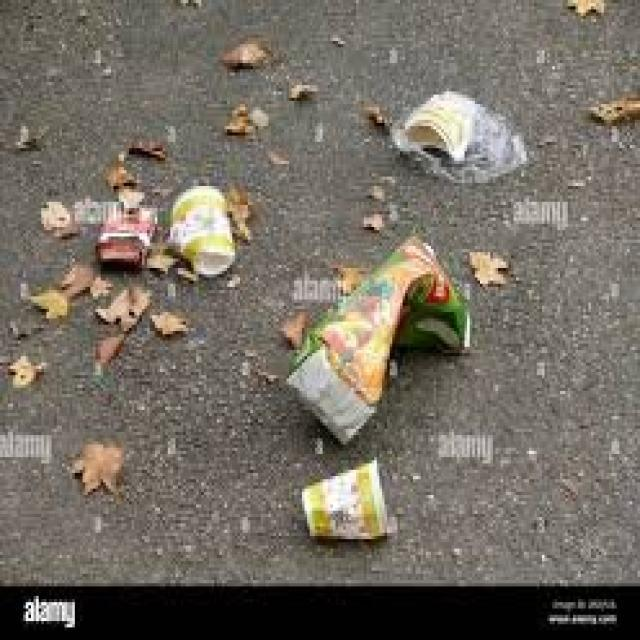leaf: (392, 90, 547, 178), (290, 449, 390, 544), (173, 176, 253, 284), (81, 176, 164, 278)
trash: (286, 228, 475, 431)
